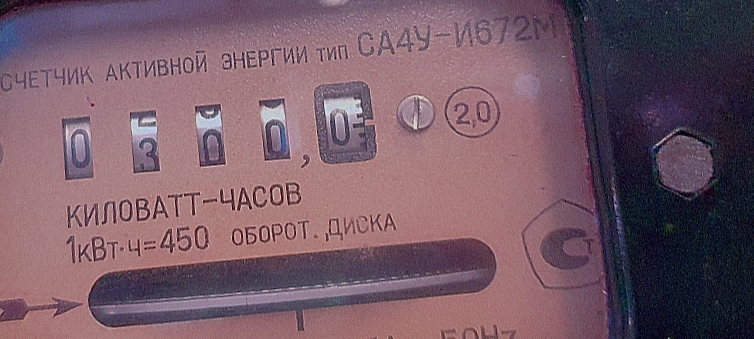0: (258, 112, 288, 159), (63, 121, 91, 170), (322, 102, 351, 147), (195, 123, 223, 166)
3: (131, 131, 158, 172)
screen: (33, 57, 397, 210)
